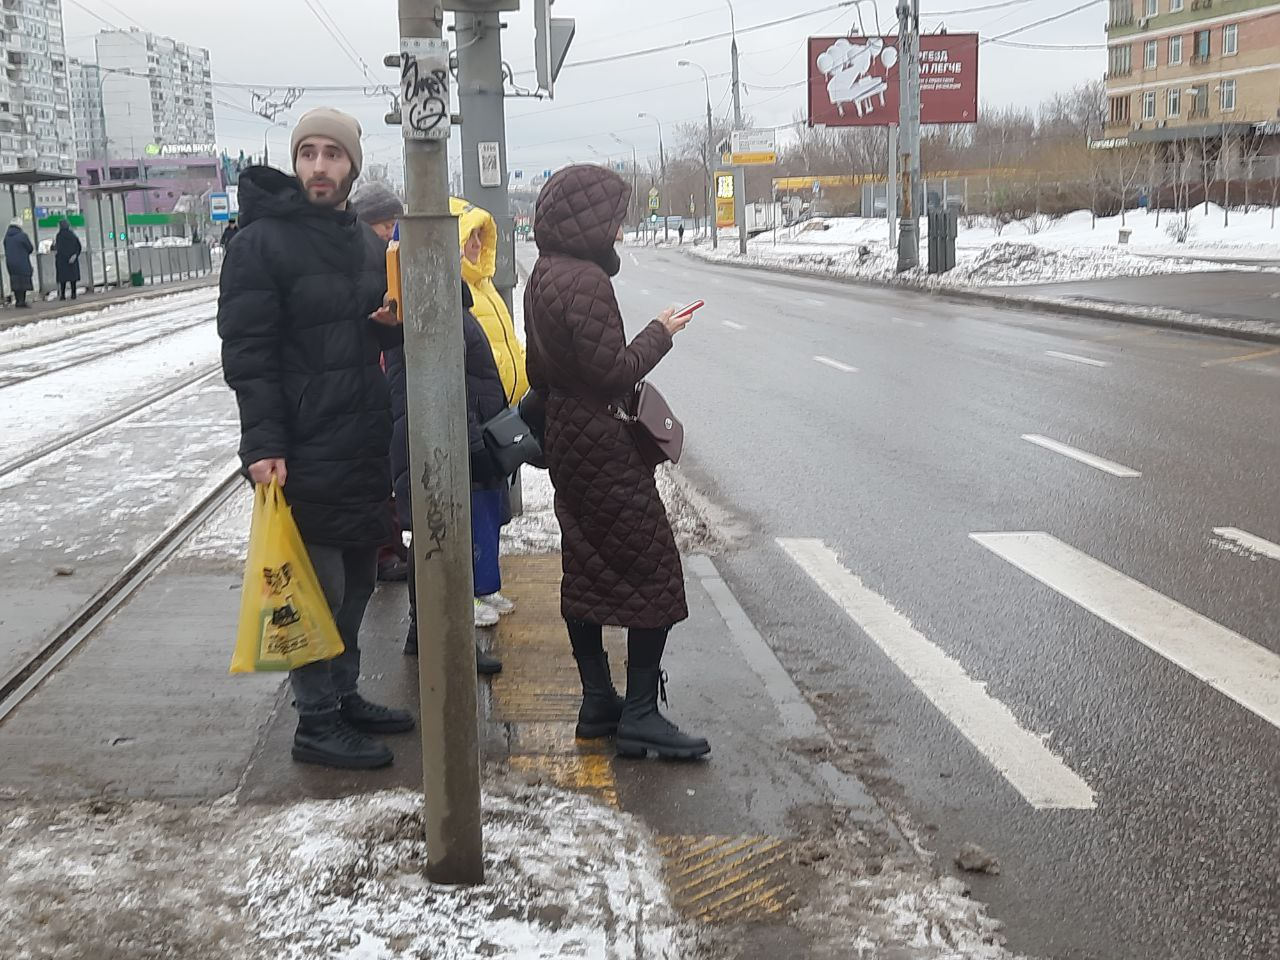sombie: (202, 93, 424, 783), (514, 153, 741, 781)
